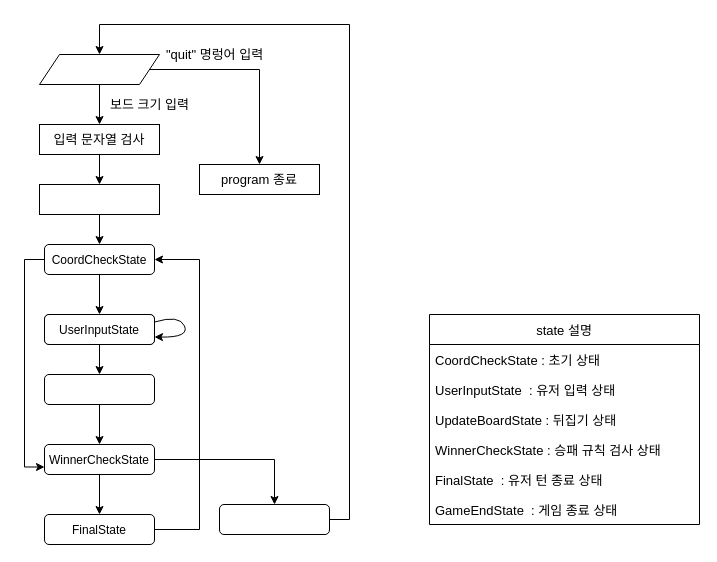
Some shapes in this 717 by 562 pixel diagram are drawn without their labels. Each missing label, with the centre of its shape:
GameEndState: point 274,519
UpdateBoardState: point 99,389
오델로 게임 시작: point 99,199
유저 입력: point 99,69
